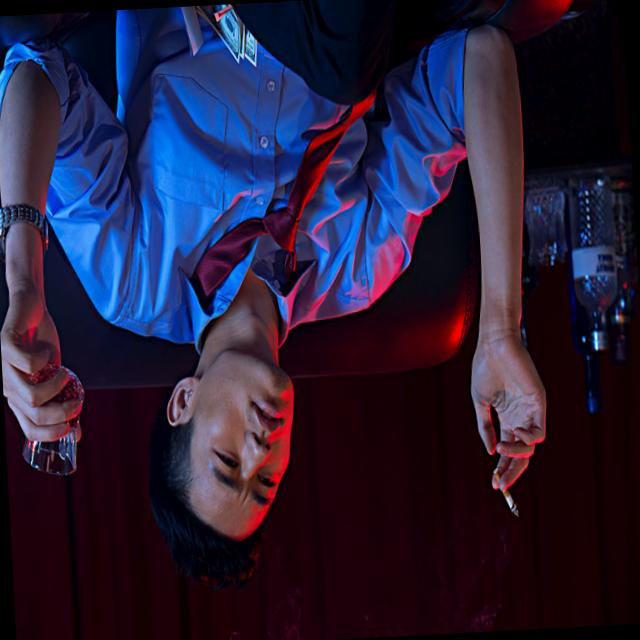smoke: (490, 463, 525, 522)
